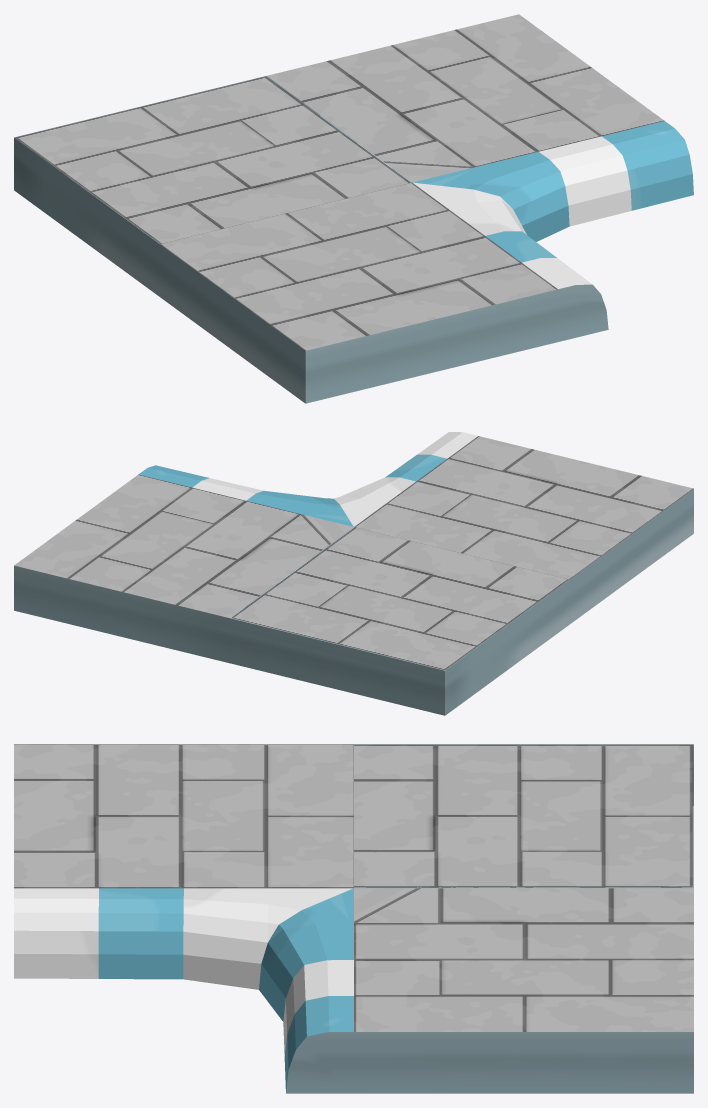
The model's file is Mod_TileRoad_Round.fbx.
3 renders of one model, top to bottom at view 1: azimuth 30°, elevation 25°; view 2: azimuth 150°, elevation 25°; view 3: azimuth 270°, elevation 25°, orthographic. The views are drawn at different scales.
Visible parts, largest first — view 1: Mod_TileRoad_04.001; view 2: Mod_TileRoad_04.001; view 3: Mod_TileRoad_04.001.
Part boxes in pixels (bbox=[...]): Mod_TileRoad_04.001: bbox=[14, 14, 693, 403]; Mod_TileRoad_04.001: bbox=[14, 432, 693, 715]; Mod_TileRoad_04.001: bbox=[14, 744, 693, 1093].
Size of the model in its own units: 200 by 20 by 200.
